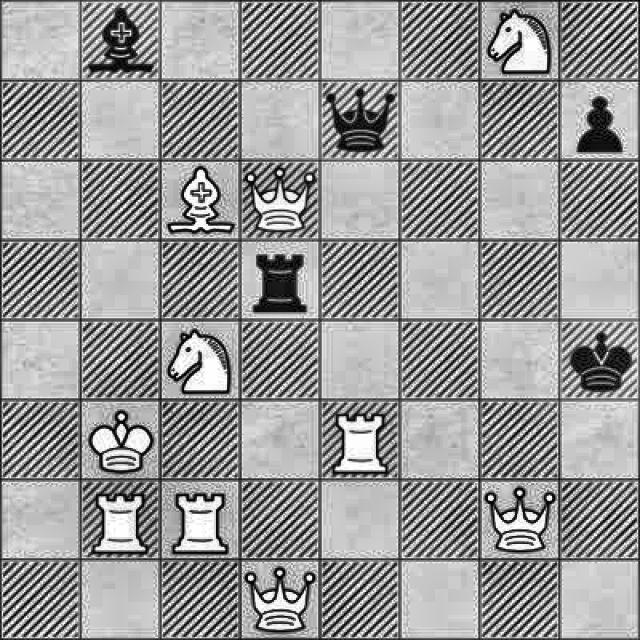black bishop: (80, 2, 157, 80)
black king: (559, 320, 637, 399)
black pawn: (563, 86, 640, 158)
black queen: (323, 83, 397, 153)
black rook: (244, 246, 317, 317)
white bishop: (172, 165, 234, 240)
white king: (82, 402, 160, 476)
white queen: (479, 480, 560, 557), (243, 562, 319, 637), (243, 163, 318, 236)
white rook: (83, 482, 156, 558), (326, 400, 397, 476), (164, 485, 234, 557)
whiteknight: (483, 6, 559, 78), (161, 326, 236, 398)
